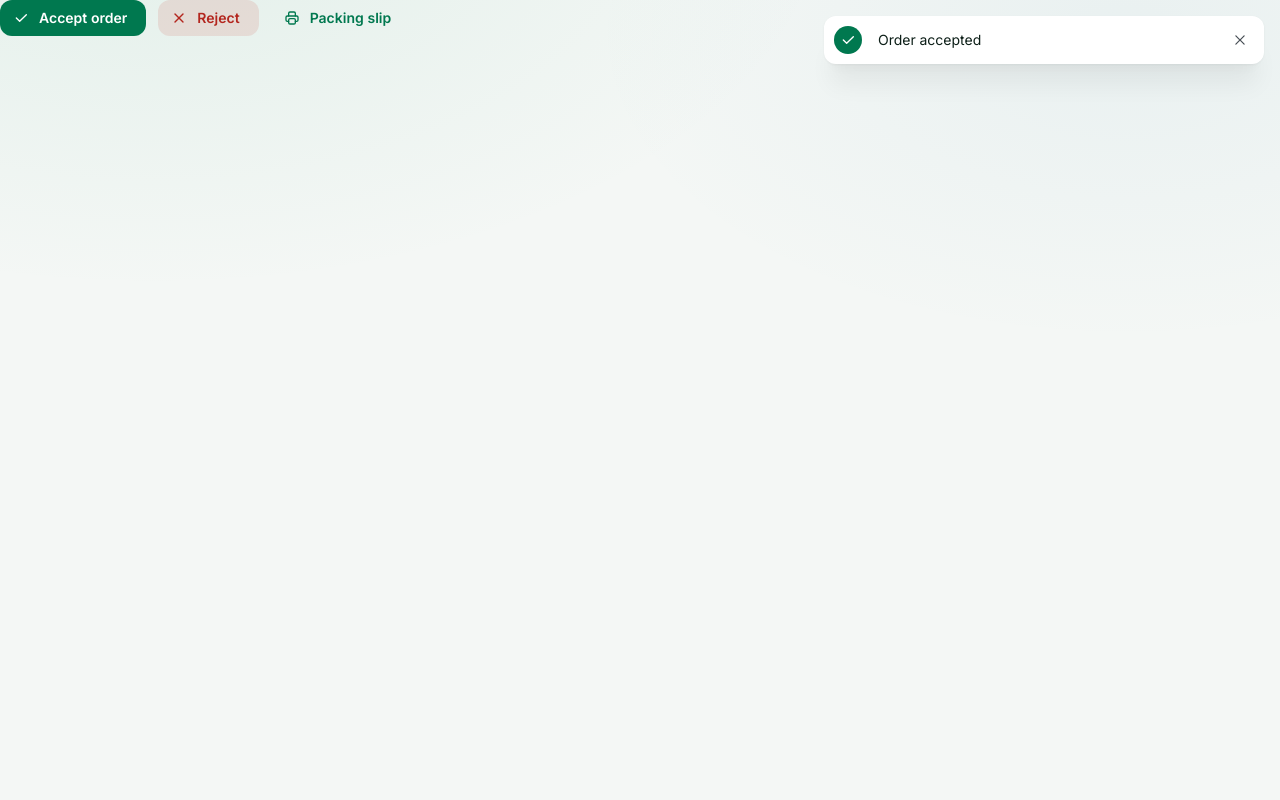
Test: order actions › does not accept when the seller cancels the confirmation
Click the button "Accept order". click: coordinates (73, 18)
box: [0, 0, 146, 36]
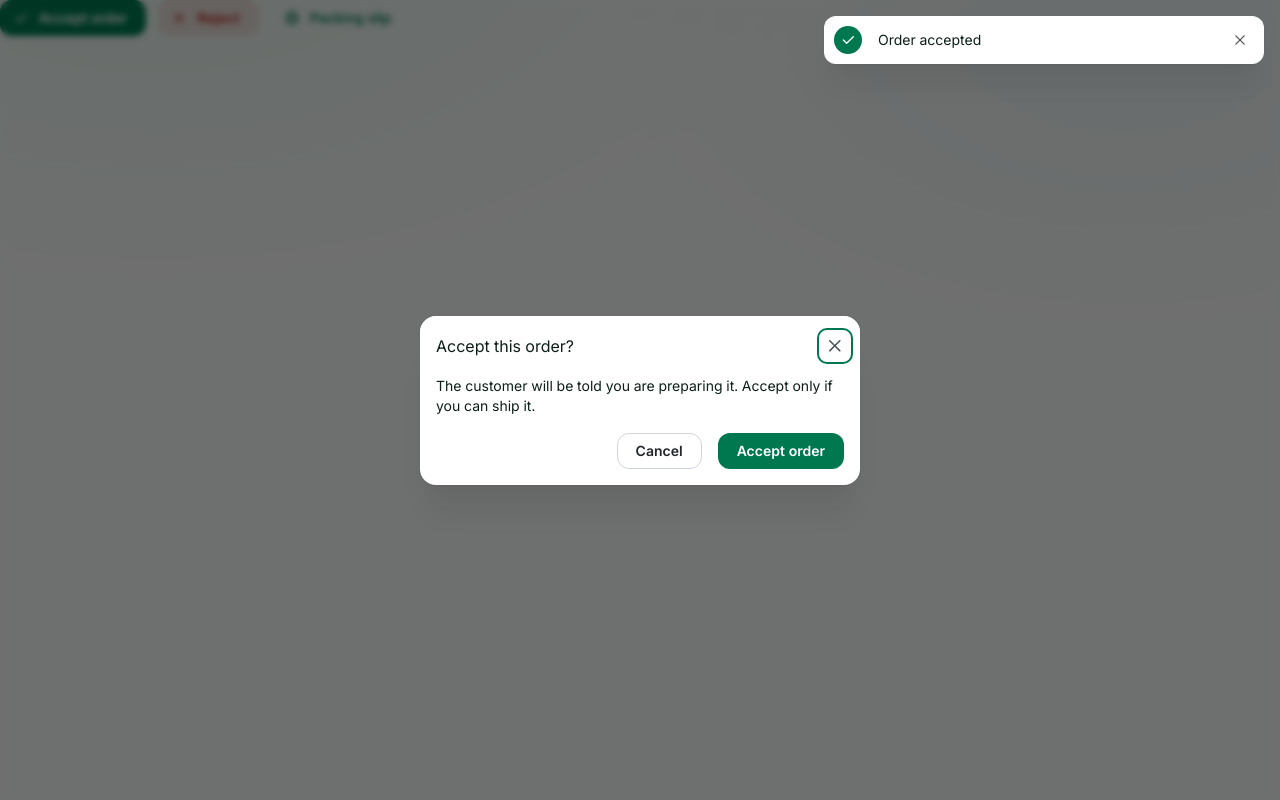
Click the button "Cancel". click: coordinates (659, 450)
box: [617, 432, 702, 468]
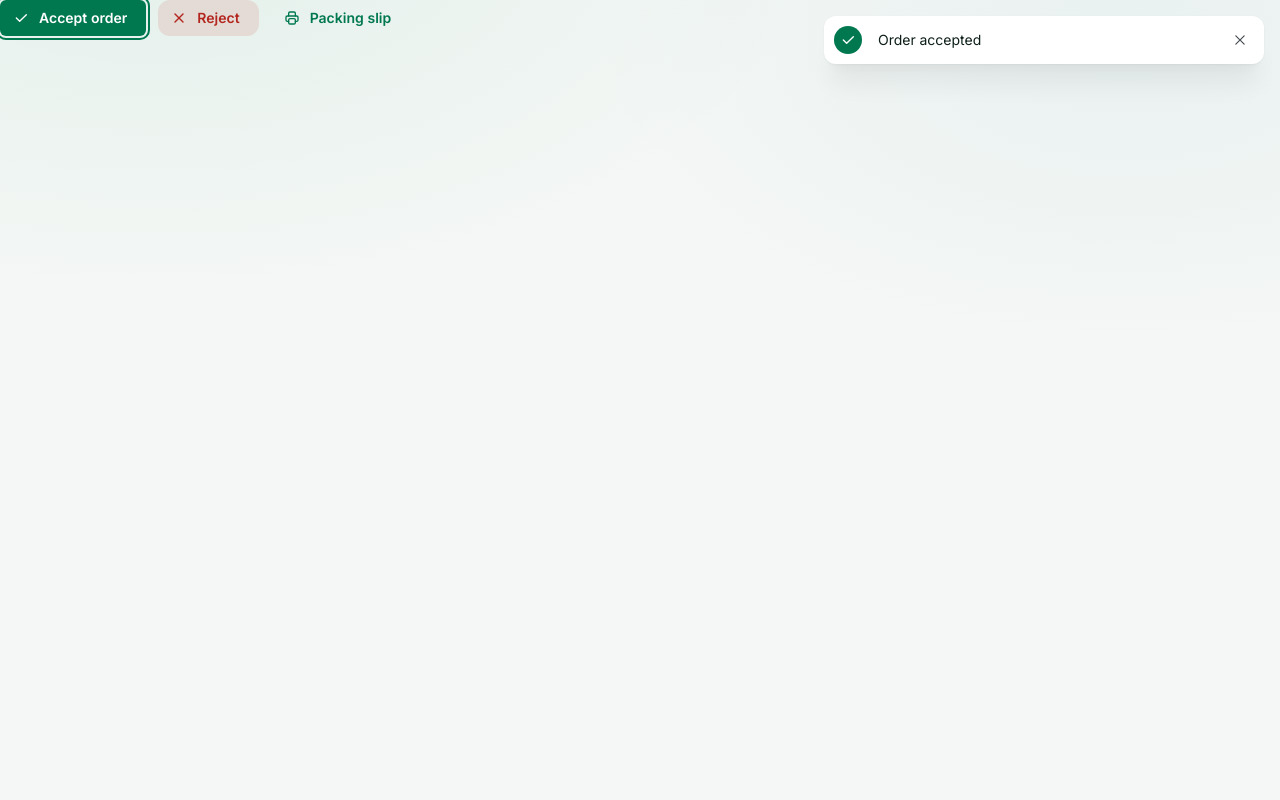
Now the dialog is gone
